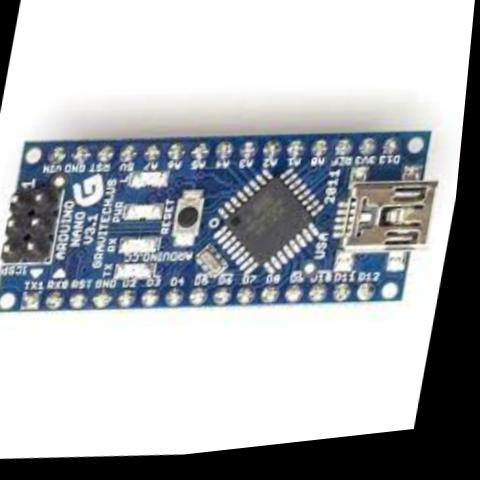Arduino-Nano: (0, 74, 471, 375)
